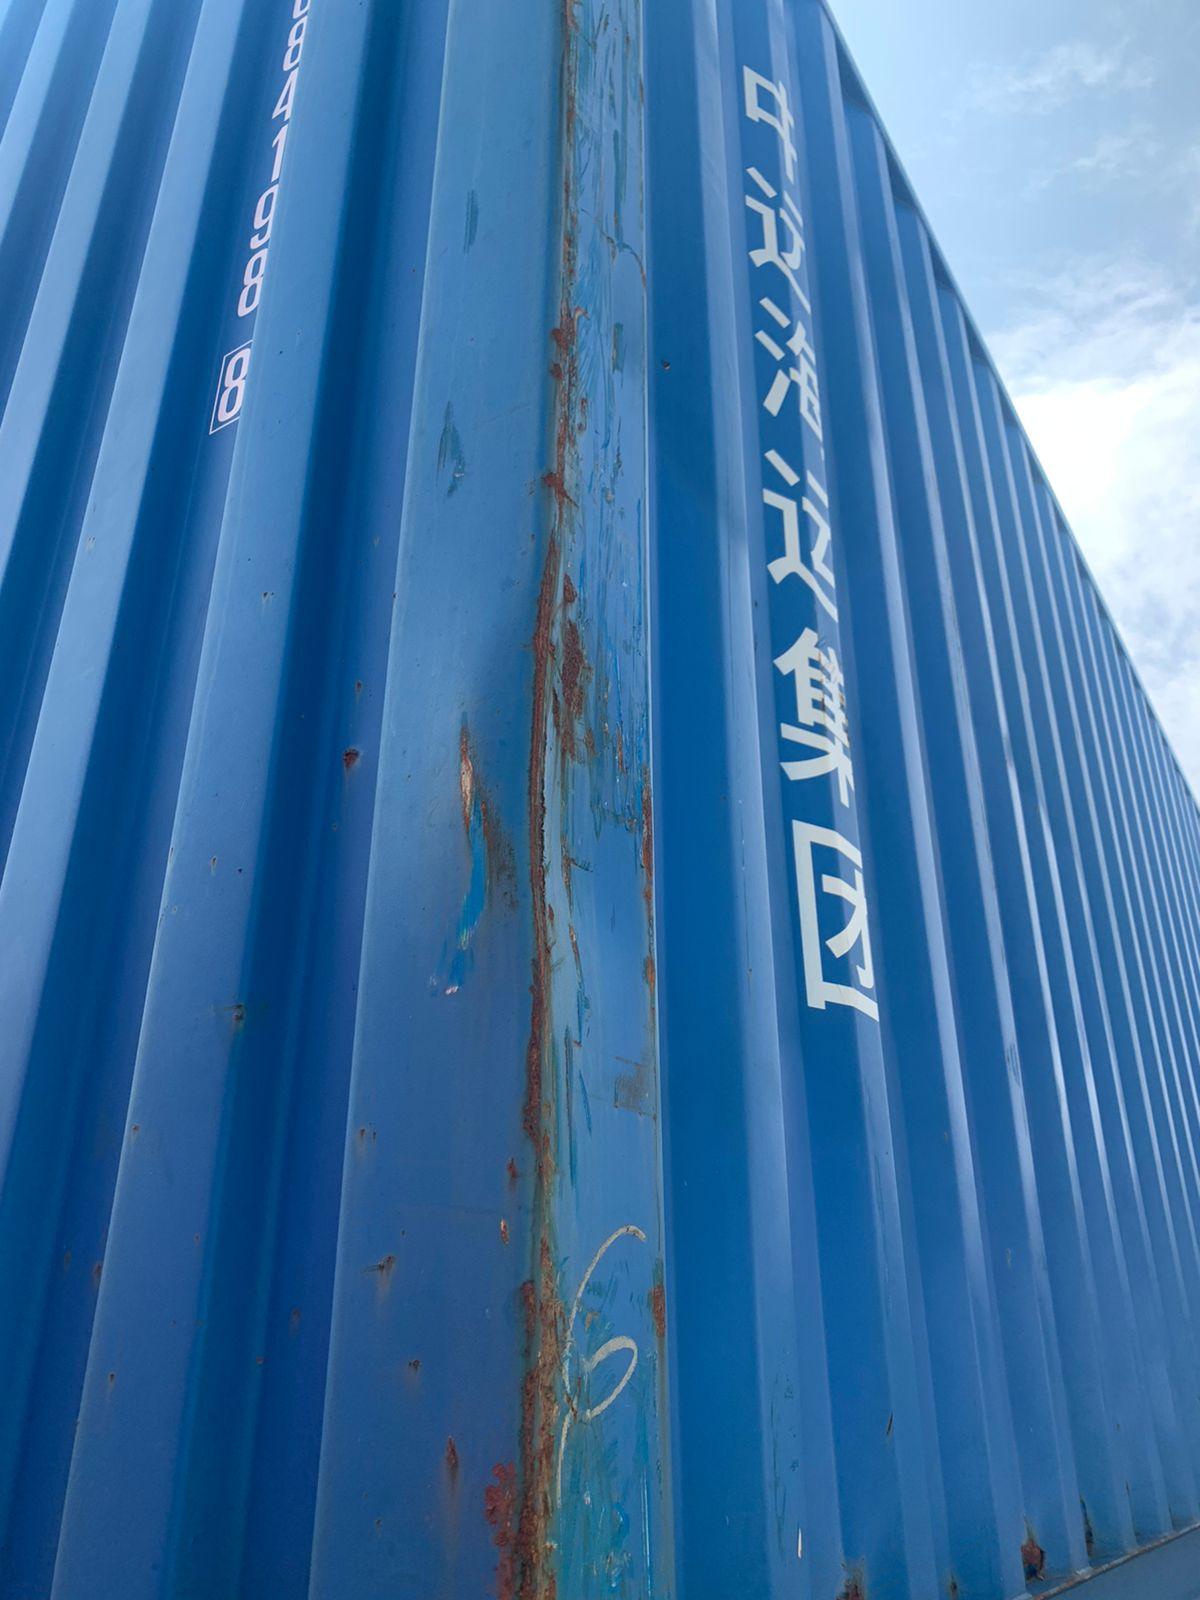rust: (498, 200, 638, 1318)
